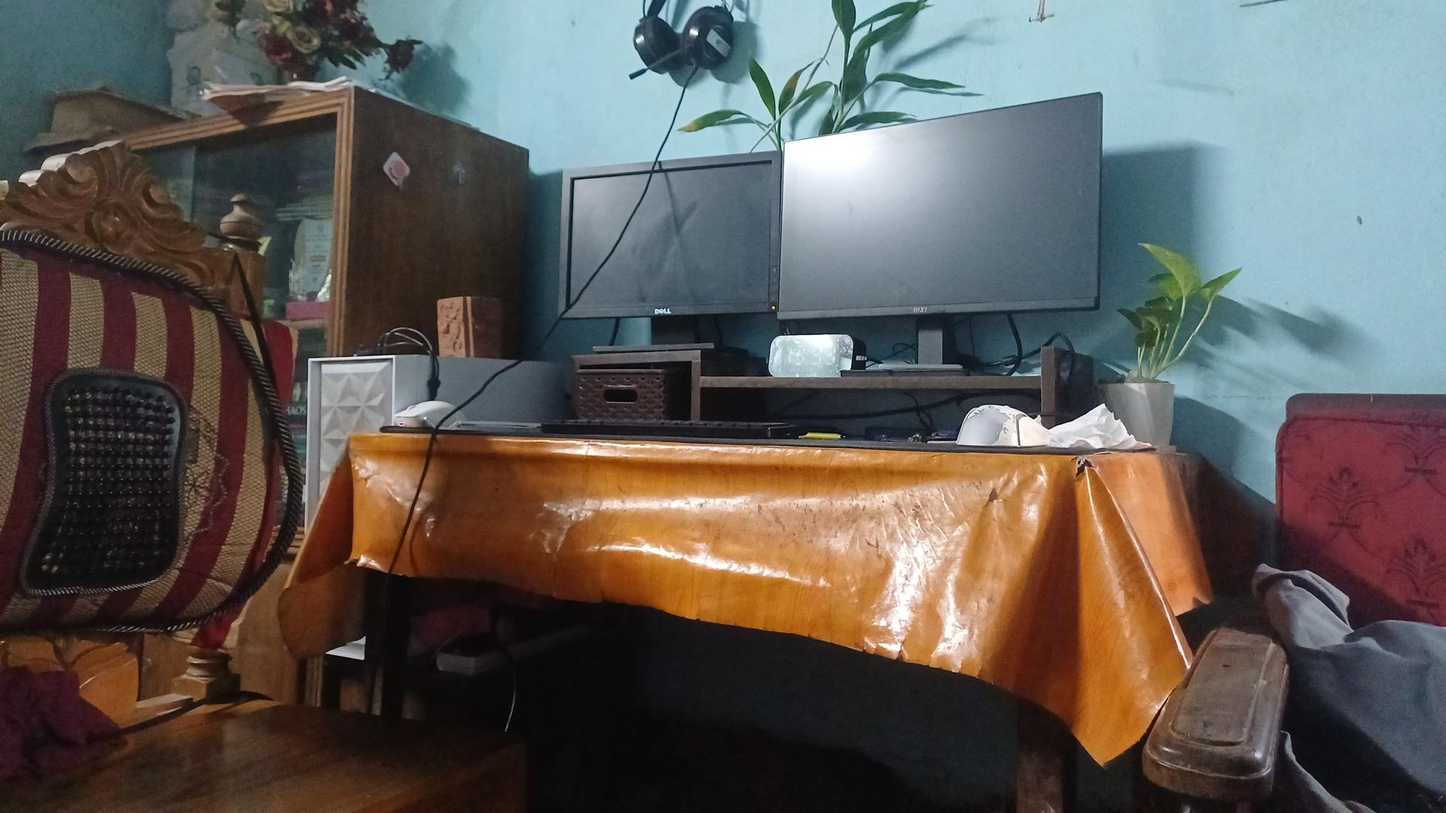Chair: (18, 142, 365, 813)
Clock: (745, 323, 860, 380)
Monitor: (765, 94, 1122, 312), (555, 136, 786, 335)
Mouse: (393, 393, 495, 457)
Pen Stand: (433, 284, 506, 351)
Plant: (1109, 226, 1247, 448)
